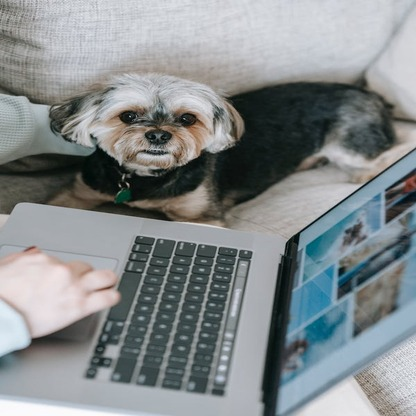yorkshire: (46, 72, 398, 217)
